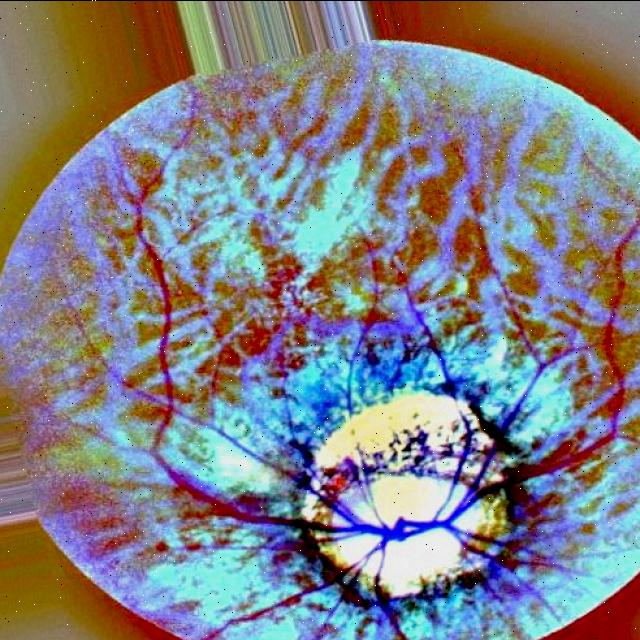Nerves: (223, 460, 434, 623), (449, 367, 541, 516), (179, 412, 296, 474)
Optic Disk: (302, 390, 505, 596)
